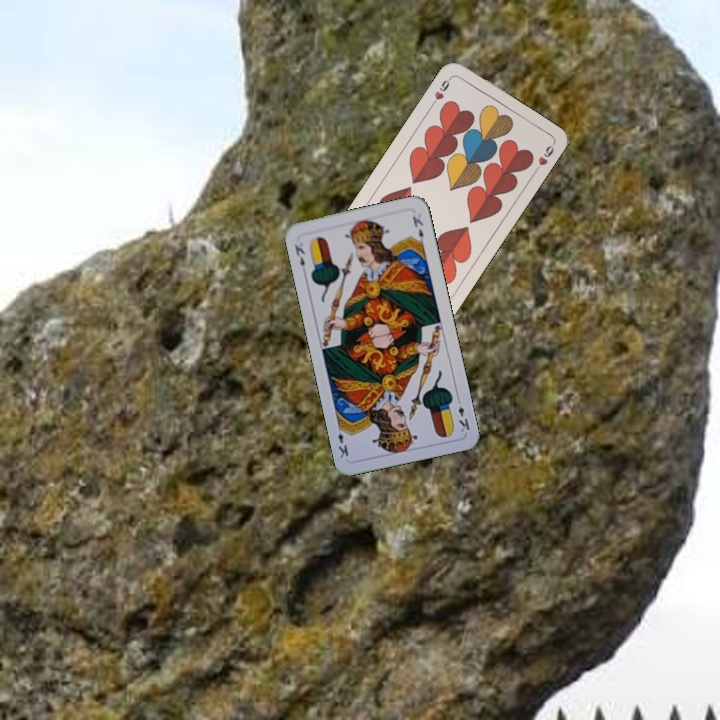EK: (453, 394, 472, 435), (290, 241, 308, 269)
H9: (427, 73, 454, 109)
